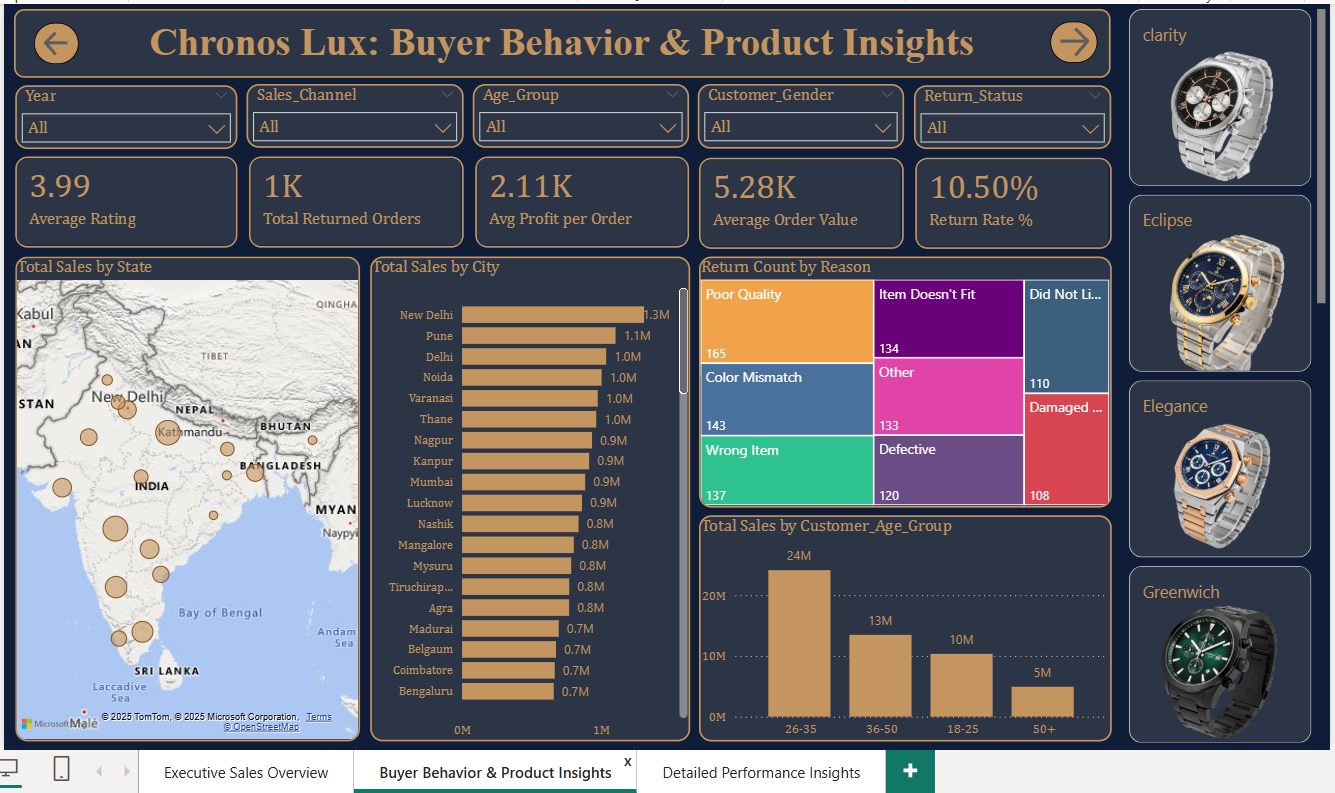

What the dashboard file says about the page in this screenshot:
{"tool":"powerbi","page":{"name":"Buyer Behavior & Product Insights","canvas":[1280,720],"ordinal":1},"visuals":[{"type":"textbox","box":[9.7,4.8,1058,66.4],"z":0},{"type":"cardVisual","fields":{"Data":["Watch sales.Average Rating"]},"box":[10.9,147.2,214.7,88.1],"z":1000},{"type":"cardVisual","fields":{"Data":["Watch sales.Total Returned Orders"]},"box":[236.5,147.2,207.5,88.1],"z":2000},{"type":"cardVisual","fields":{"Data":["Watch sales.Avg Profit per Order"]},"box":[454.8,147.2,206.3,88.1],"z":3000},{"type":"cardVisual","fields":{"Data":["Watch sales.Average Order Value"]},"box":[670.8,148.4,197.9,88.1],"z":4000},{"type":"cardVisual","fields":{"Data":["Watch sales.Return Rate %"]},"box":[879.5,148.4,189.4,88.1],"z":5000},{"type":"slicer","fields":{"Values":["Watch sales.Order_Date.Variation.Date Hierarchy.Year"]},"box":[10.9,78.7,214.7,61.5],"z":6000},{"type":"slicer","fields":{"Values":["Watch sales.Customer_Age_Group"]},"box":[452.4,77.5,208.7,61.5],"z":7000},{"type":"slicer","fields":{"Values":["Watch sales.Customer_Gender"]},"box":[669.6,77.5,199.1,62.7],"z":8000},{"type":"slicer","fields":{"Values":["Watch sales.Return_Status"]},"box":[878.3,78.7,190.6,61.5],"z":9000},{"type":"slicer","fields":{"Values":["Watch sales.Sales_Channel"]},"box":[234,77.5,209.9,61.5],"z":10000},{"type":"map","fields":{"Category":["Watch sales.State"],"Size":["Watch sales.Total Sales"]},"box":[10.9,243.7,333,468.1],"z":11000},{"type":"clusteredBarChart","fields":{"Category":["Watch sales.City"],"Y":["Watch sales.Total Sales"]},"box":[353.5,243.7,308.8,468.1],"z":12000},{"type":"treemap","title":"Return Count by Reason","fields":{"Group":["Watch sales.Return_Reason"],"Values":["Watch sales.Return Count"]},"box":[670.8,243.7,398.1,242.5],"z":13000},{"type":"columnChart","fields":{"Y":["Watch sales.Total Sales"],"Category":["Watch sales.Customer_Age_Group"]},"box":[671,494,398,218],"z":14000},{"type":"actionButton","box":[1009.8,16.9,45.8,39.8],"z":15000},{"type":"actionButton","box":[29,18.1,43.4,39.8],"z":16000},{"type":"advancedSlicerVisual","fields":{"Values":["Sheet1.Model_Name"]},"box":[1080.9,0,199.1,720],"z":17000}]}

Visuals, with their boxes on the page's 1280x720 design canvas (x1, y1, x2, y2). These are canvas units, not pixel positions in the 1335x793 screenshot, which may show the page scaled, cropped or inside an application window:
textbox: pyautogui.locateOnScreen(10, 5, 1068, 71)
cardVisual - Watch sales.Average Rating: pyautogui.locateOnScreen(11, 147, 226, 235)
cardVisual - Watch sales.Total Returned Orders: pyautogui.locateOnScreen(236, 147, 444, 235)
cardVisual - Watch sales.Avg Profit per Order: pyautogui.locateOnScreen(455, 147, 661, 235)
cardVisual - Watch sales.Average Order Value: pyautogui.locateOnScreen(671, 148, 869, 236)
cardVisual - Watch sales.Return Rate %: pyautogui.locateOnScreen(880, 148, 1069, 236)
slicer - Watch sales.Order_Date.Variation.Date Hierarchy.Year: pyautogui.locateOnScreen(11, 79, 226, 140)
slicer - Watch sales.Customer_Age_Group: pyautogui.locateOnScreen(452, 78, 661, 139)
slicer - Watch sales.Customer_Gender: pyautogui.locateOnScreen(670, 78, 869, 140)
slicer - Watch sales.Return_Status: pyautogui.locateOnScreen(878, 79, 1069, 140)
slicer - Watch sales.Sales_Channel: pyautogui.locateOnScreen(234, 78, 444, 139)
map - Watch sales.State x Watch sales.Total Sales: pyautogui.locateOnScreen(11, 244, 344, 712)
clusteredBarChart - Watch sales.City x Watch sales.Total Sales: pyautogui.locateOnScreen(354, 244, 662, 712)
"Return Count by Reason" treemap: pyautogui.locateOnScreen(671, 244, 1069, 486)
columnChart - Watch sales.Total Sales x Watch sales.Customer_Age_Group: pyautogui.locateOnScreen(671, 494, 1069, 712)
actionButton: pyautogui.locateOnScreen(1010, 17, 1056, 57)
actionButton: pyautogui.locateOnScreen(29, 18, 72, 58)
advancedSlicerVisual - Sheet1.Model_Name: pyautogui.locateOnScreen(1081, 0, 1280, 720)
